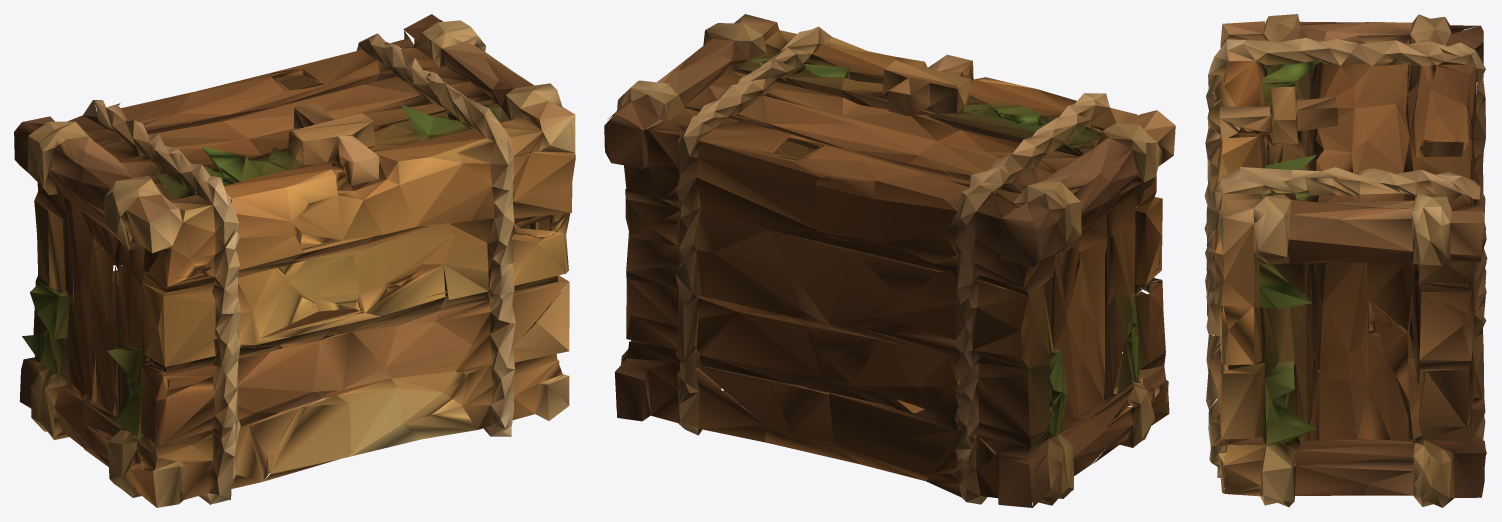
Rendered from building-chest.glb.
The picture shows the model from 3 angles, left to right: view 1: azimuth 30°, elevation 25°; view 2: azimuth 150°, elevation 25°; view 3: azimuth 270°, elevation 25°; orthographic projection. The views are drawn at different scales.
Visible parts, largest first — view 1: 0_chest; view 2: 0_chest; view 3: 0_chest.
Part boxes in pixels (x1=…): 0_chest: x1=14, y1=14, x2=575, y2=507; 0_chest: x1=604, y1=14, x2=1175, y2=507; 0_chest: x1=1204, y1=14, x2=1487, y2=507.
Size of the model in its own units: 1.59 by 1.13 by 0.9158.
